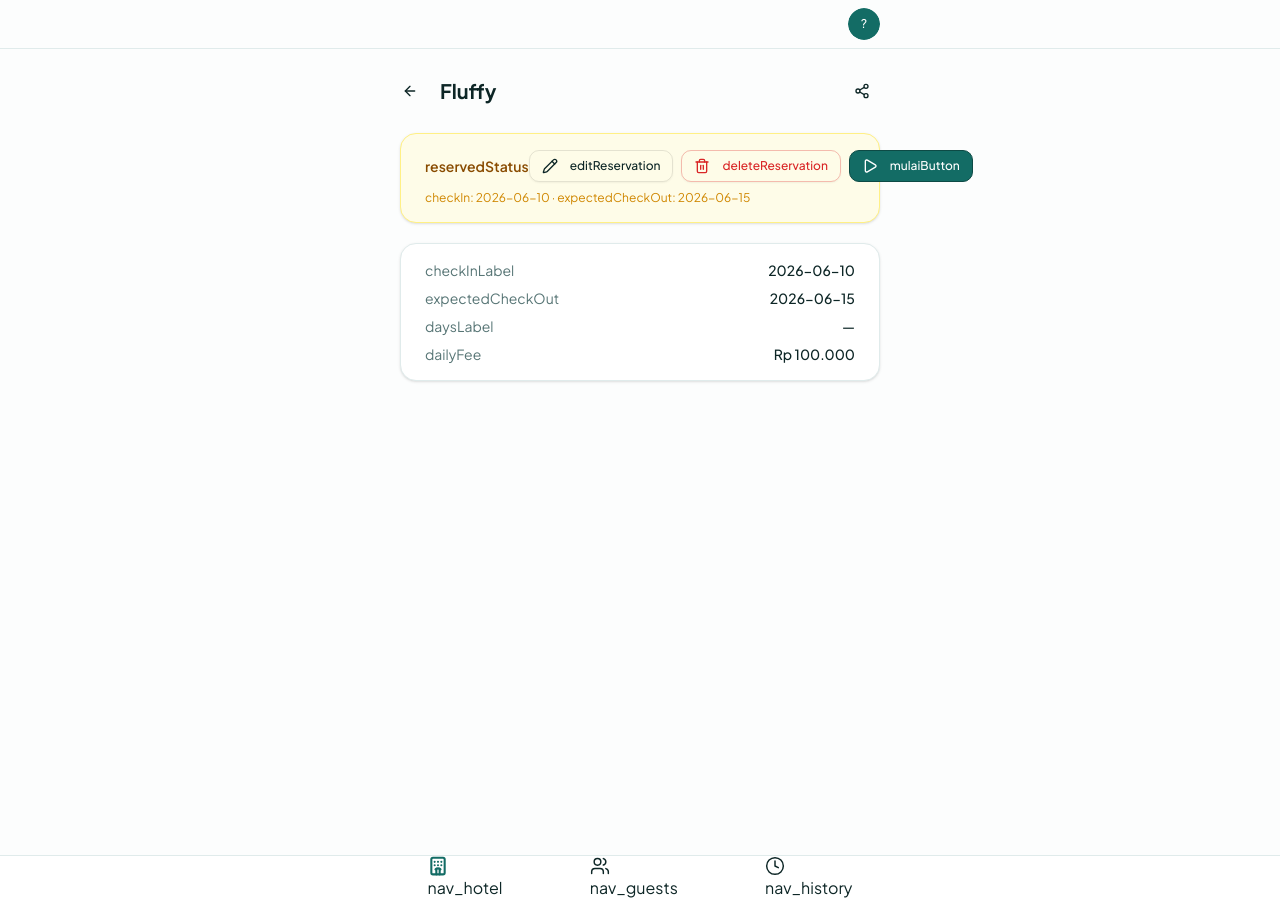
HotelBookingPage › edit reservation dialog › opens edit dialog when clicking edit button
Click the button "editReservation" at (601, 166), box [529,150,674,182]
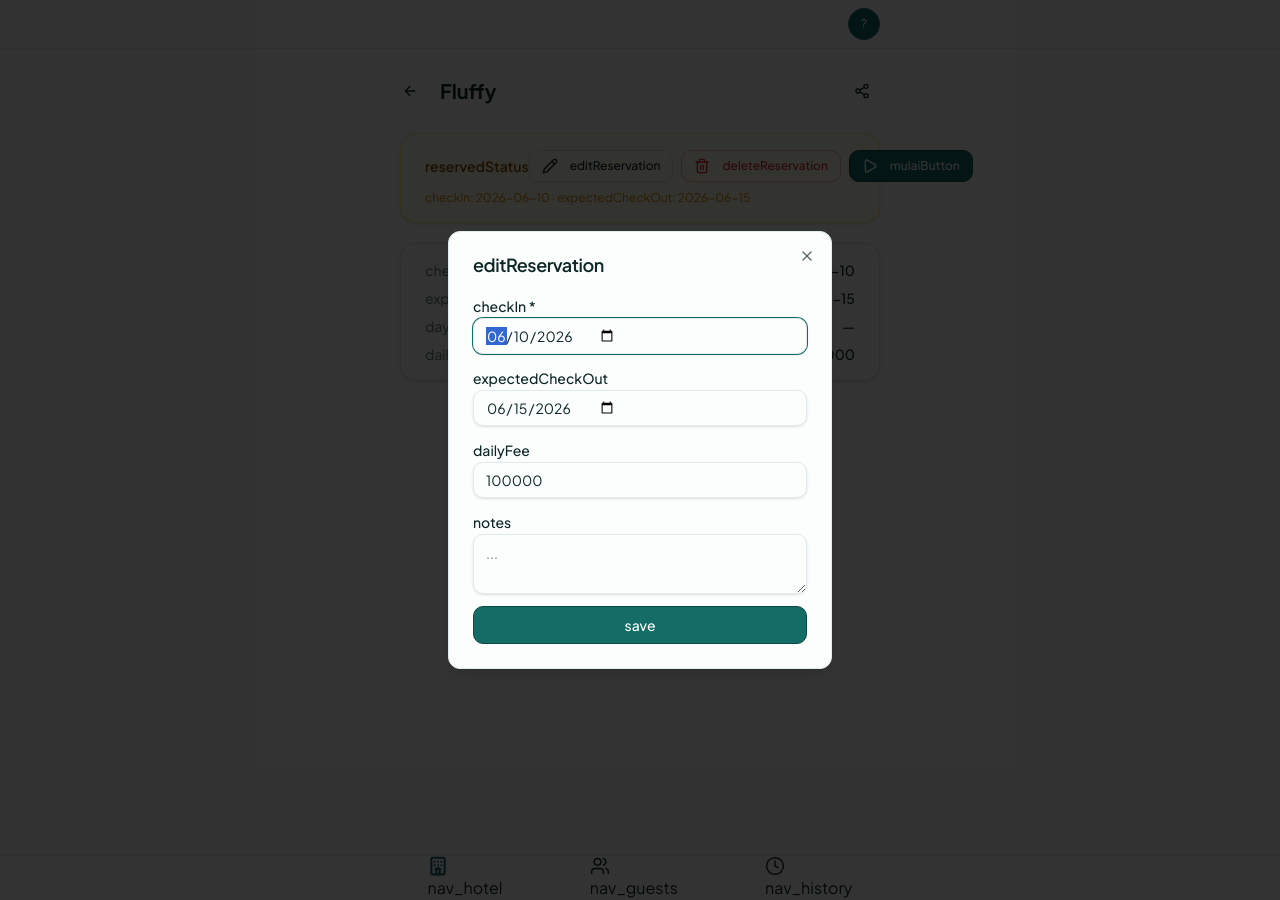
Expected: the dialog is shown, [448,231,832,669]
Expected: the text "expectedCheckOut" is shown, [473,369,608,387]
